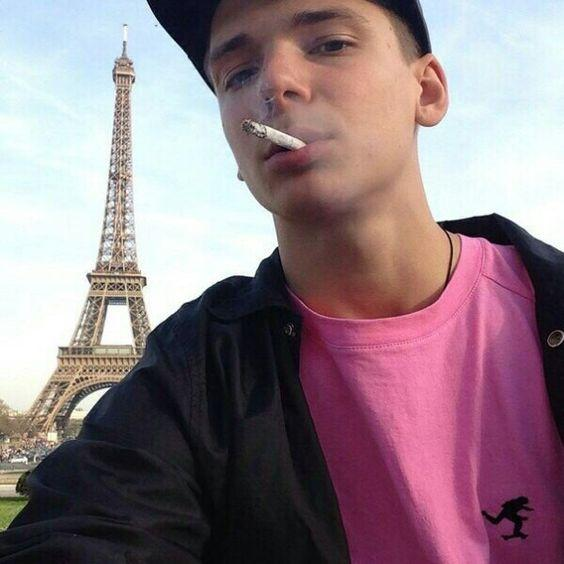cigarette: (241, 119, 305, 150)
